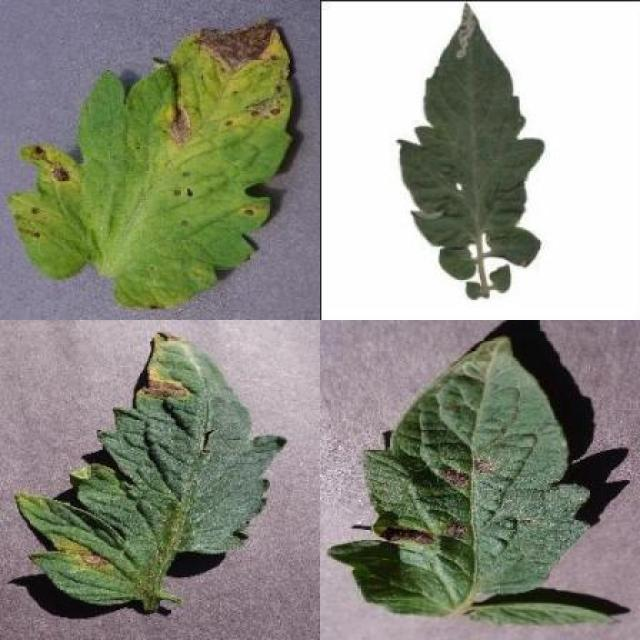Early Blight: (15, 332, 288, 608), (330, 336, 593, 618)
Leaf Miner: (397, 1, 550, 250)
Septoria: (9, 18, 294, 312)
